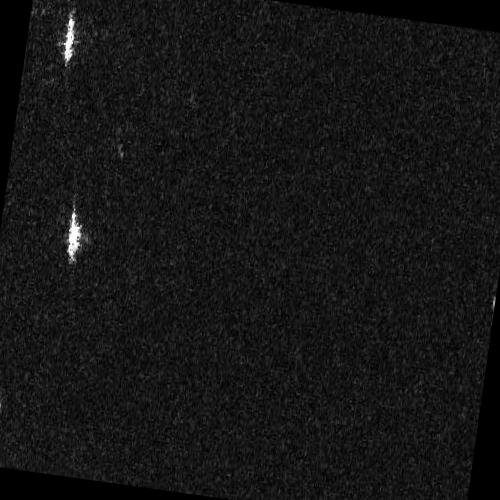ship: (66, 203, 82, 265), (63, 13, 77, 66)
